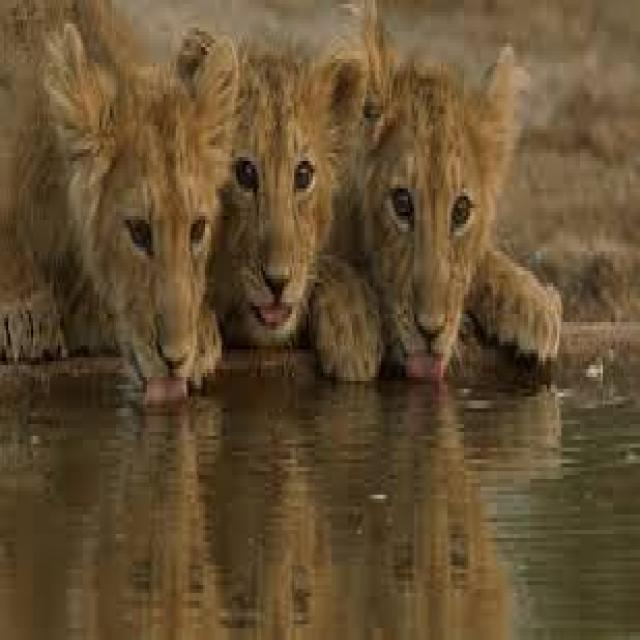Lion: (0, 0, 566, 396)
